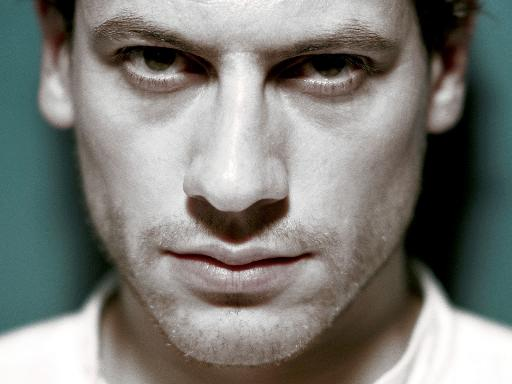left_eye: (267, 52, 372, 92)
left_lip_corner: (288, 243, 328, 271)
right_eye: (108, 41, 213, 87)
right_lip_corner: (153, 242, 190, 267)
